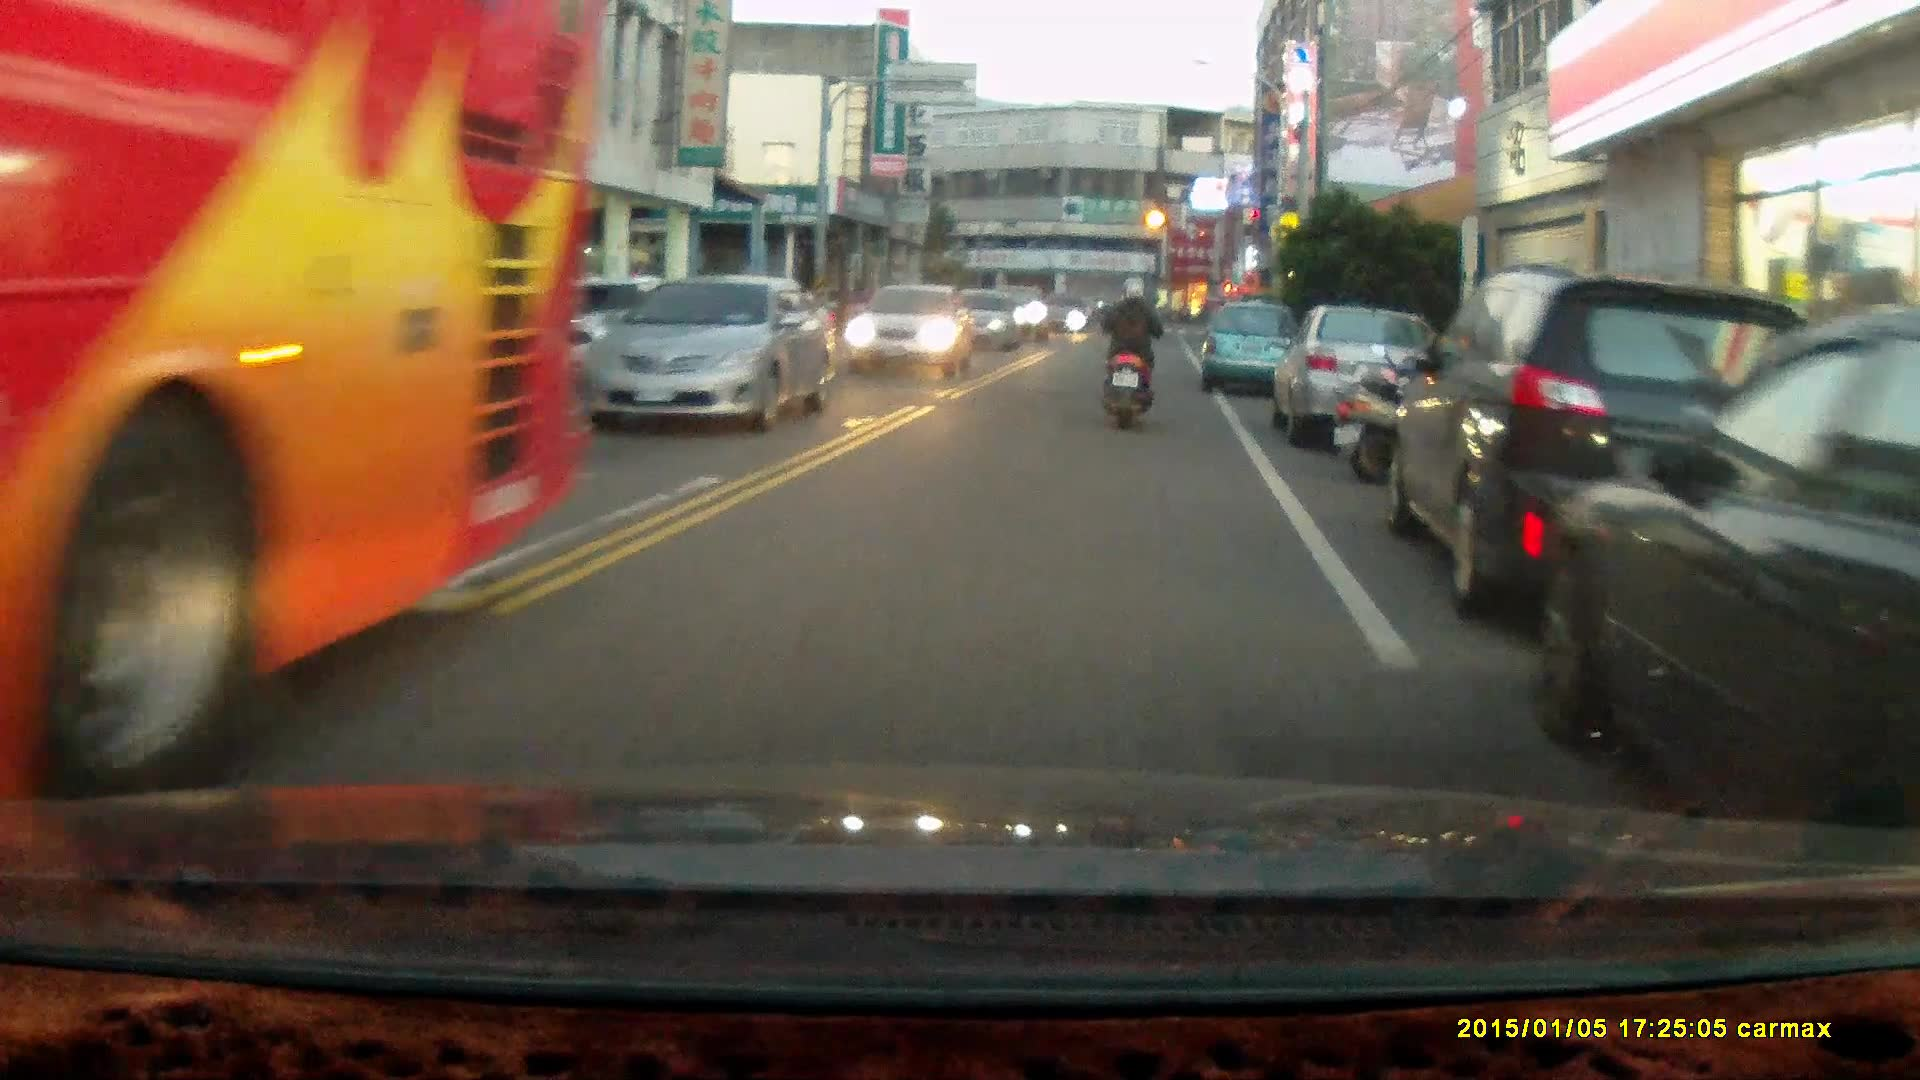rider: (1094, 275, 1162, 432)
vehicle: (1, 9, 592, 807), (1532, 316, 1920, 805), (1386, 265, 1878, 616), (581, 270, 840, 436), (1278, 304, 1452, 455), (847, 284, 975, 378), (1199, 301, 1303, 401), (942, 286, 1025, 354)
